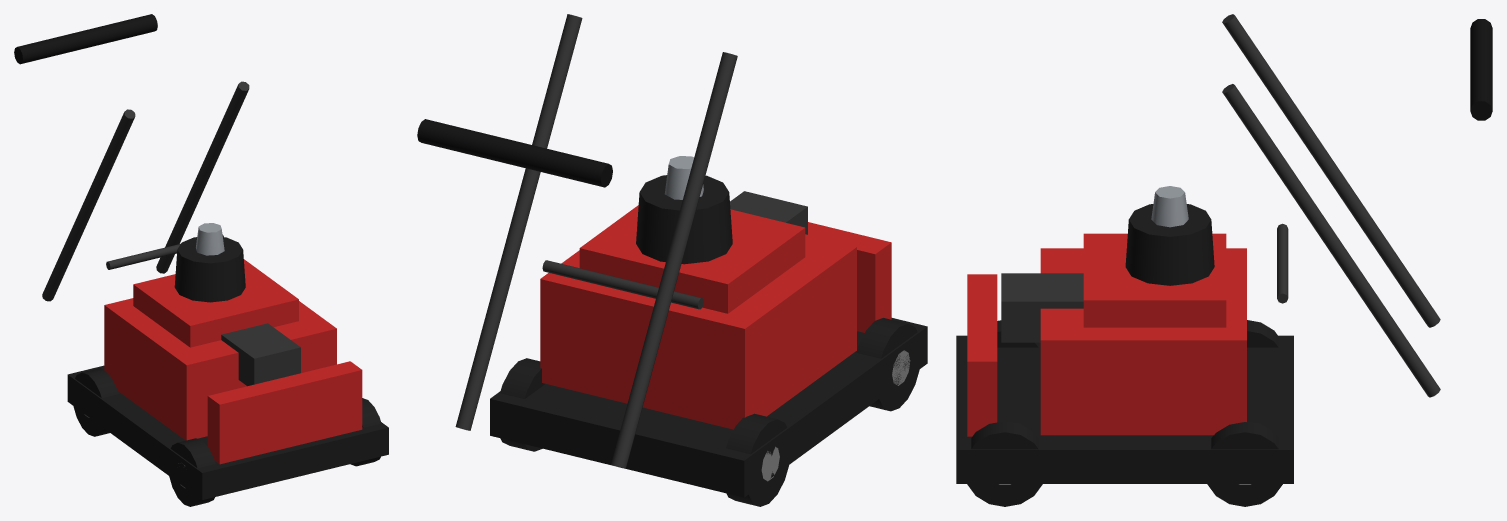
File: mower.glb
3 renders of one model, left to right at view 1: azimuth 30°, elevation 25°; view 2: azimuth 150°, elevation 25°; view 3: azimuth 270°, elevation 25°, orthographic. The views are drawn at different scales.
Parts seen in each view (by area): view 1: lawn-mower; view 2: lawn-mower; view 3: lawn-mower.
Part boxes in pixels (x1,y1,x2,y2): lawn-mower: (14,14,388,506); lawn-mower: (417,14,927,506); lawn-mower: (956,14,1492,506).
Bounding box in the file's own units: 0.72 × 1.18 × 1.43.
